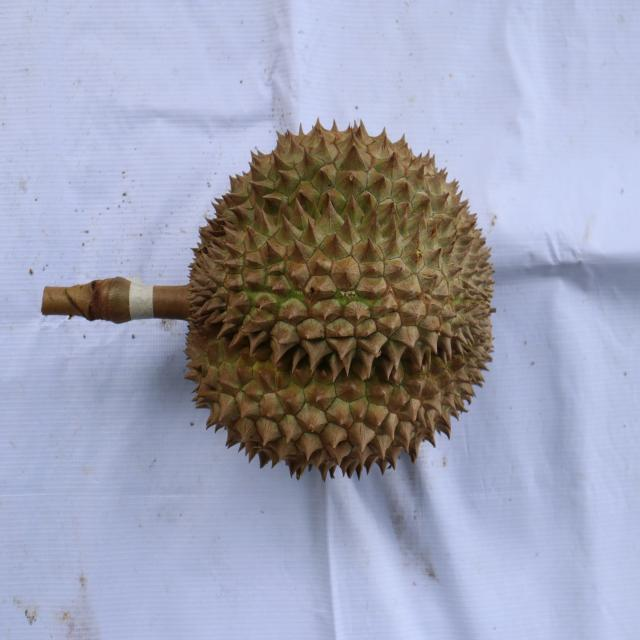mature: (184, 118, 498, 485)
